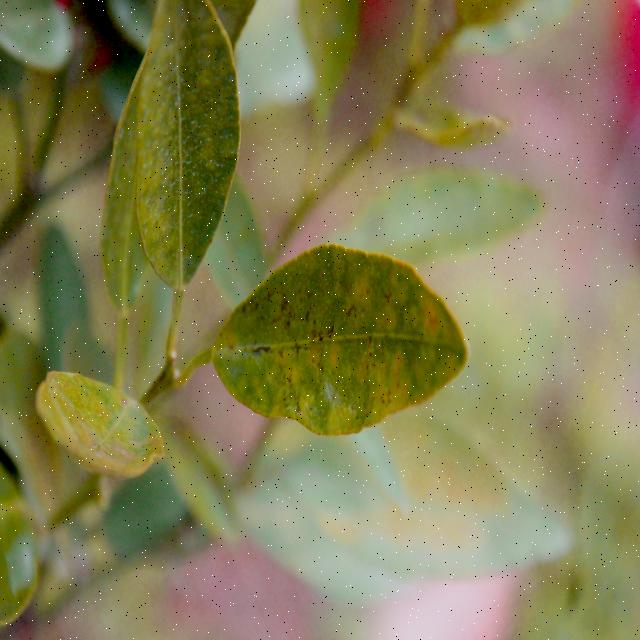blackspot: (215, 237, 462, 452)
